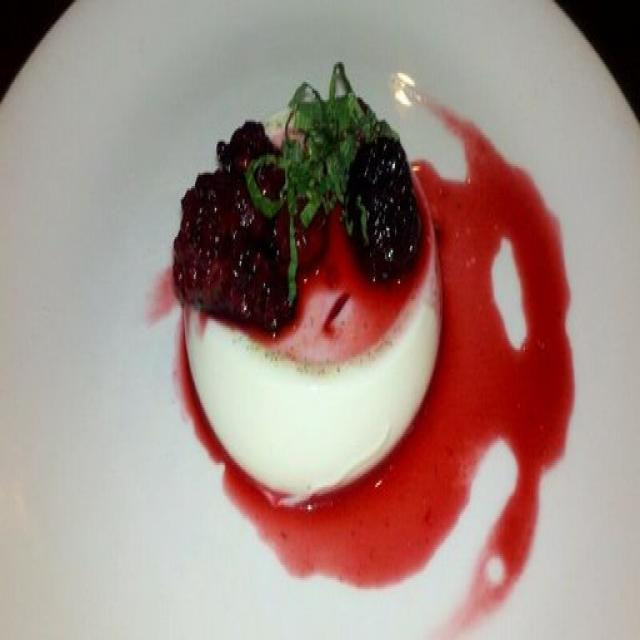Food -Biodegradable-: (173, 86, 577, 640)
